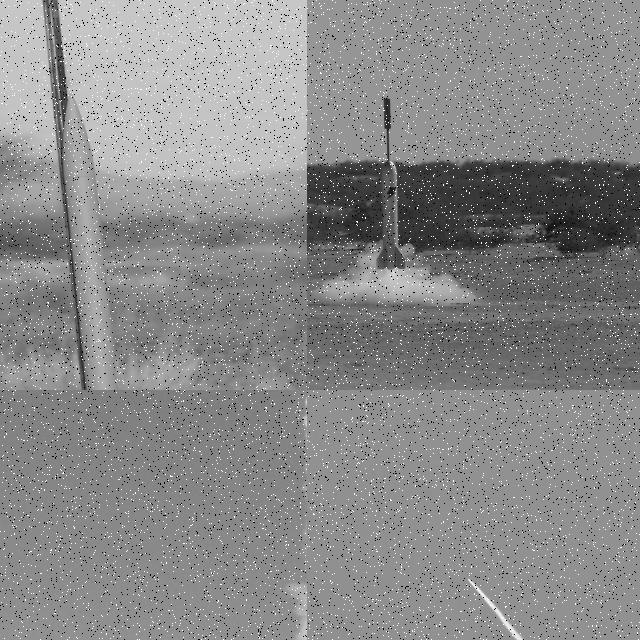Rocket: (52, 91, 147, 390), (369, 155, 415, 278), (467, 576, 469, 581)
